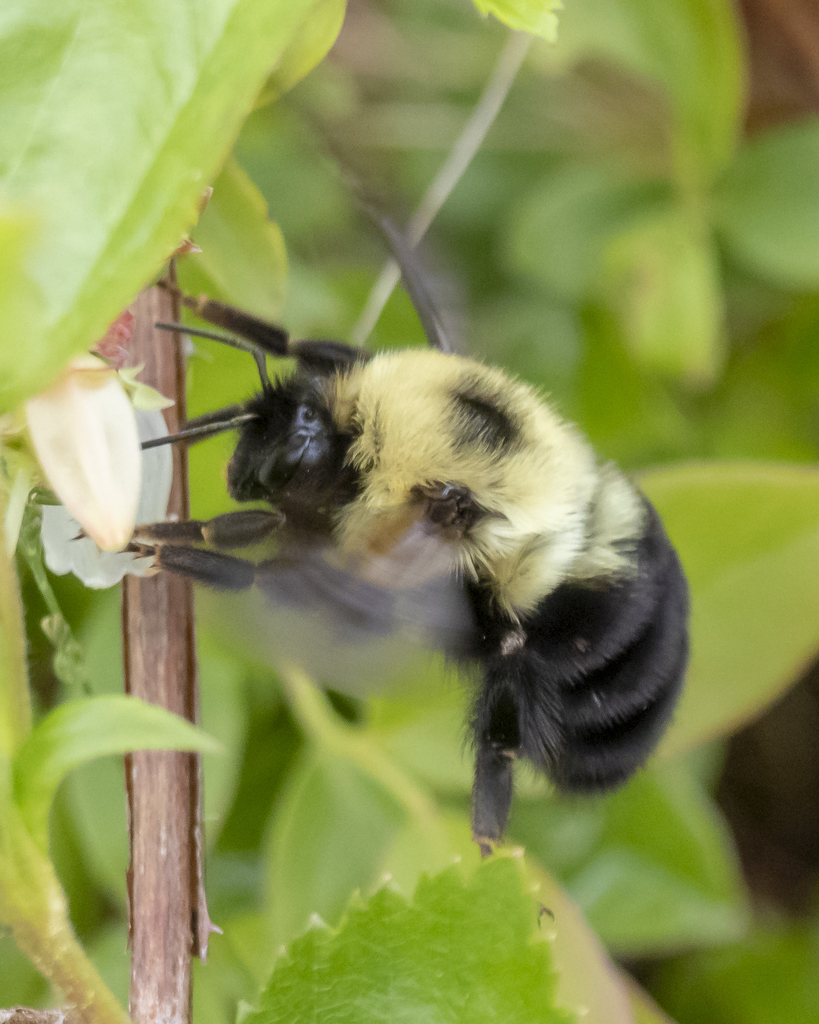bumblebee: (134, 278, 692, 859)
